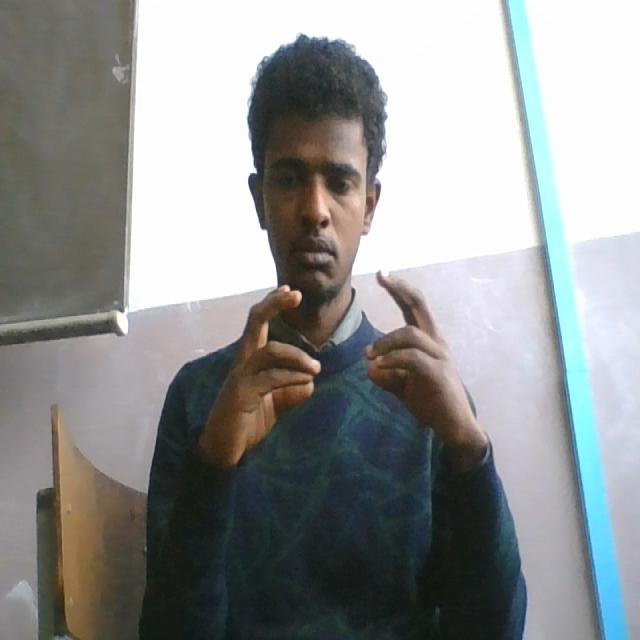sefer: (207, 257, 479, 474)
